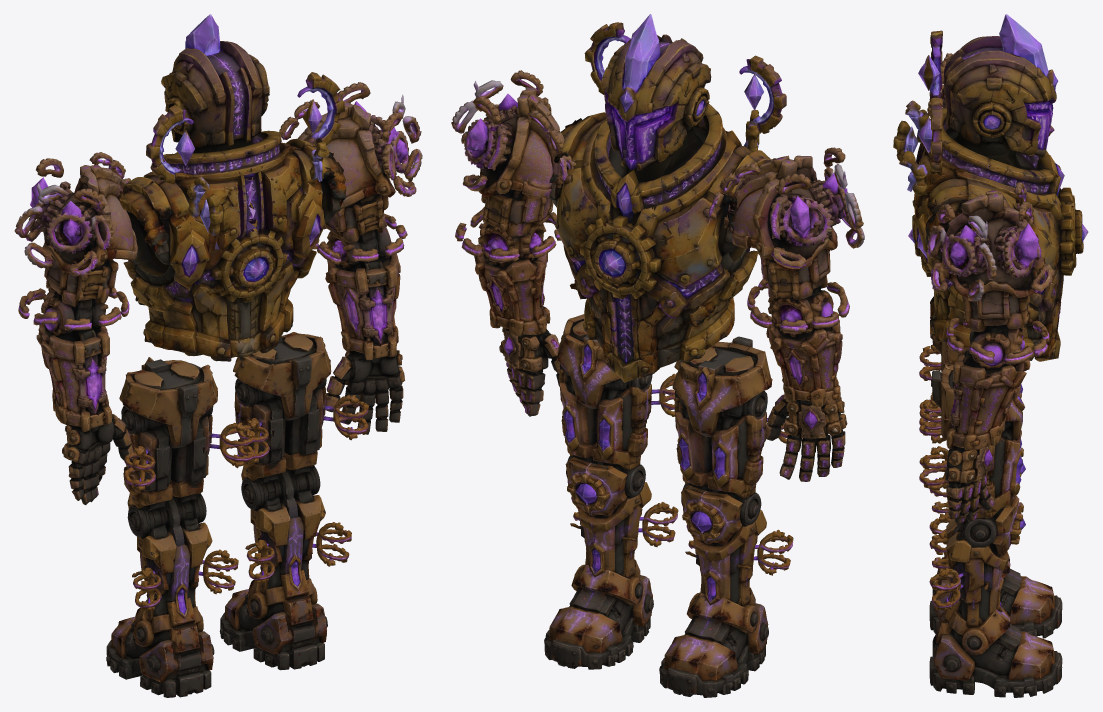
File: Gear_T17.glb
3 renders of one model, left to right at view 1: azimuth 30°, elevation 25°; view 2: azimuth 150°, elevation 25°; view 3: azimuth 270°, elevation 25°, orthographic.
Visible parts, largest first — view 1: Torso_Upper, Head, ArmL_Upper, LegL_Upper, ArmR_Upper, LegR_Upper, LegL_Lower, LegR_Lower, LegL_Foot, LegR_Foot, ArmR_Lower, ArmL_Lower (+2 smaller); view 2: Torso_Upper, ArmL_Upper, Head, ArmR_Upper, LegL_Upper, LegR_Upper, LegL_Foot, LegR_Foot, LegL_Lower, LegR_Lower, ArmL_Lower, ArmL_Hand (+3 smaller); view 3: Head, Torso_Upper, ArmR_Upper, LegR_Foot, LegR_Lower, ArmR_Lower, LegR_Upper, LegL_Foot, ArmR_Hand, LegL_Upper, LegL_Lower, Torso_Lower.
Boxes of the visible parts, bbox=[...] form: Torso_Upper: bbox=[116, 135, 346, 359]; Head: bbox=[146, 14, 344, 192]; ArmL_Upper: bbox=[14, 152, 137, 332]; LegL_Upper: bbox=[119, 357, 254, 505]; ArmR_Upper: bbox=[279, 82, 422, 264]; LegR_Upper: bbox=[233, 332, 368, 477]; LegL_Lower: bbox=[127, 492, 238, 618]; LegR_Lower: bbox=[241, 465, 351, 590]; LegL_Foot: bbox=[106, 603, 214, 697]; LegR_Foot: bbox=[219, 576, 327, 670]; ArmR_Lower: bbox=[325, 253, 400, 360]; ArmL_Lower: bbox=[36, 324, 112, 431]; Torso_Upper: bbox=[549, 112, 775, 352]; ArmL_Upper: bbox=[709, 147, 864, 331]; Head: bbox=[584, 14, 786, 161]; ArmR_Upper: bbox=[451, 70, 576, 262]; LegL_Upper: bbox=[672, 336, 788, 497]; LegR_Upper: bbox=[557, 314, 677, 469]; LegL_Foot: bbox=[659, 587, 768, 697]; LegR_Foot: bbox=[544, 559, 653, 669]; LegL_Lower: bbox=[681, 482, 793, 602]; LegR_Lower: bbox=[565, 453, 678, 573]; ArmL_Lower: bbox=[766, 311, 842, 406]; ArmL_Hand: bbox=[764, 394, 847, 481]; Head: bbox=[899, 14, 1058, 176]; Torso_Upper: bbox=[893, 114, 1088, 349]; ArmR_Upper: bbox=[927, 182, 1054, 364]; LegR_Foot: bbox=[929, 607, 1062, 697]; LegR_Lower: bbox=[929, 495, 1025, 618]; ArmR_Lower: bbox=[946, 347, 1030, 450]; LegR_Upper: bbox=[919, 364, 1024, 513]; LegL_Foot: bbox=[929, 554, 1062, 638]; ArmR_Hand: bbox=[945, 445, 995, 523]; LegL_Upper: bbox=[919, 340, 1022, 431]; LegL_Lower: bbox=[929, 447, 1025, 557]; Torso_Lower: bbox=[930, 316, 1060, 361].
Size of the model in its own units: 4.17 by 6.25 by 1.73.
3 materials, 3 textured.
